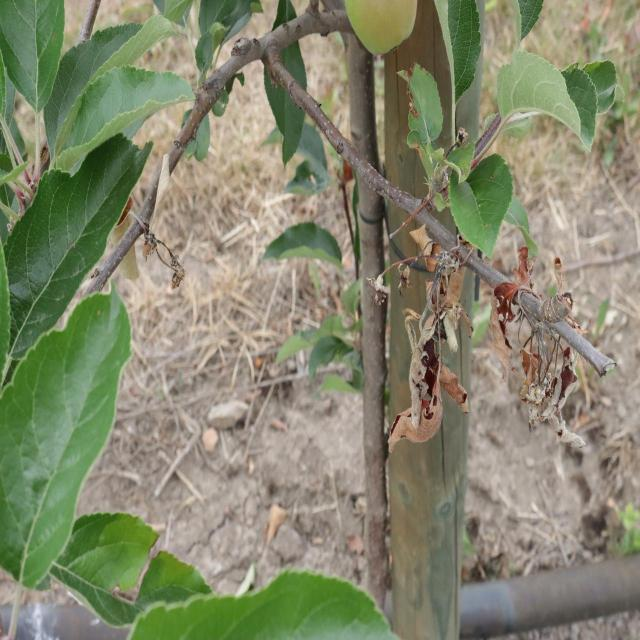-FireBlight-: (384, 225, 468, 441), (497, 260, 589, 450)
